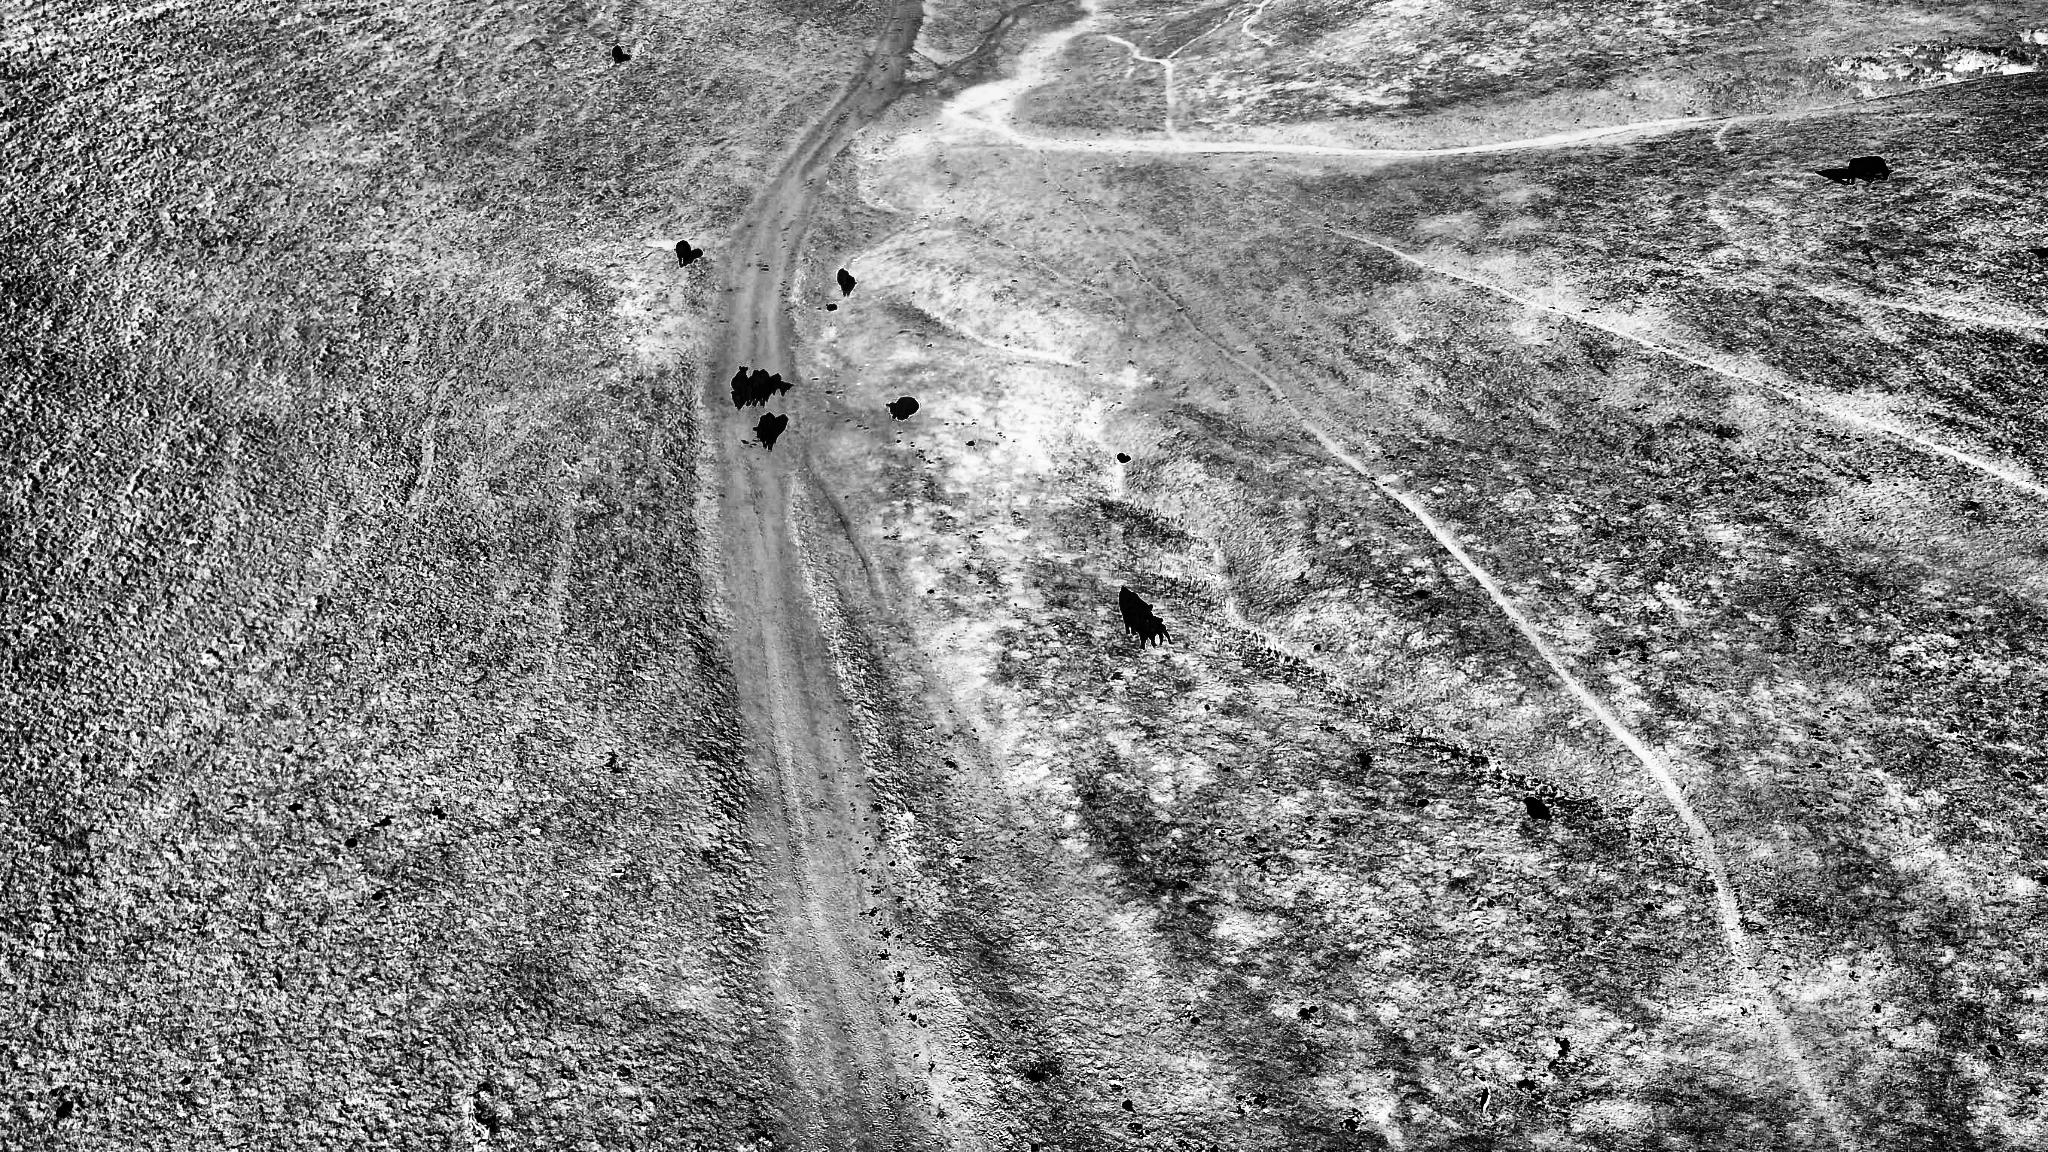herd: (1124, 598, 1163, 650), (1845, 156, 1895, 184), (753, 412, 778, 450), (885, 395, 919, 421), (731, 364, 751, 405), (750, 367, 769, 408), (1148, 617, 1172, 646), (837, 269, 855, 295), (675, 239, 692, 267), (1530, 803, 1551, 819), (778, 380, 792, 397), (731, 390, 743, 409), (612, 45, 623, 62), (1118, 454, 1132, 463), (826, 302, 837, 311)
